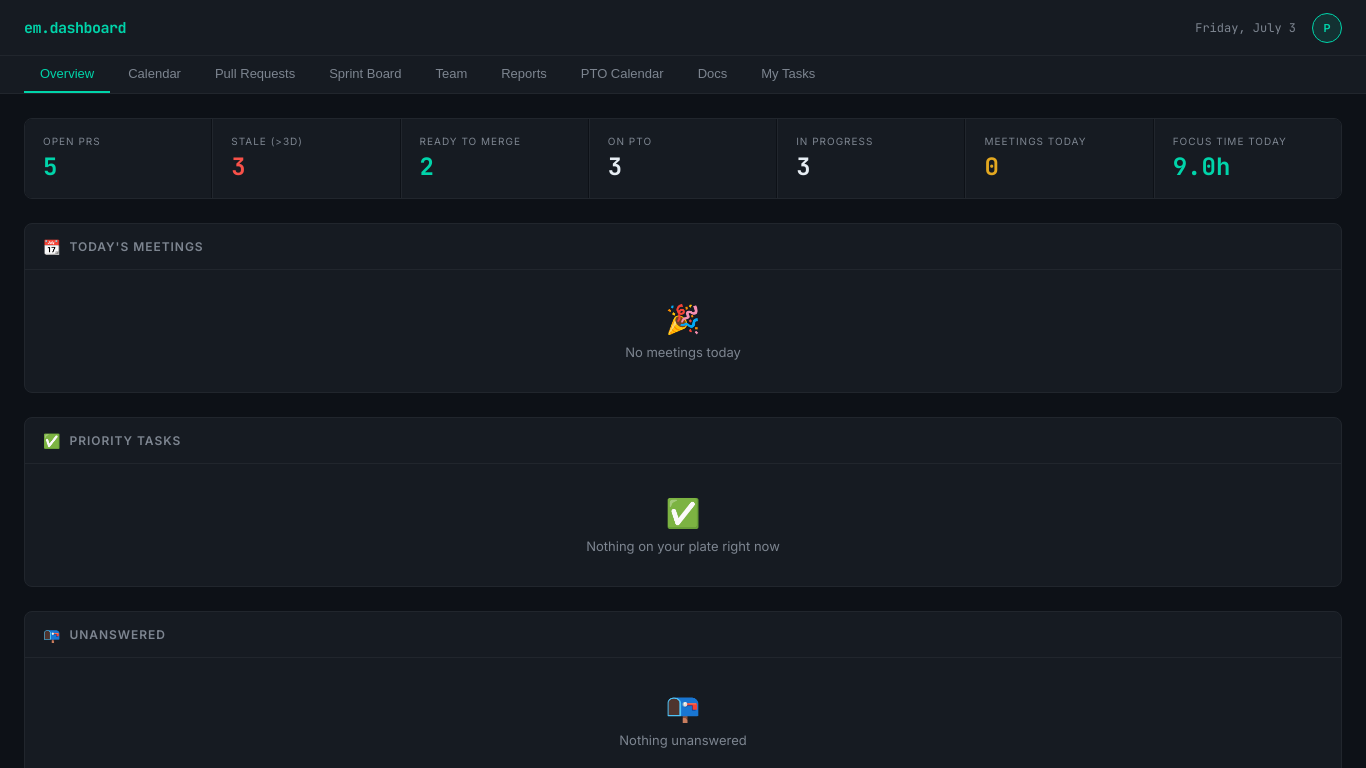
Test: App — tab navigation › has a Team tab so TeamPulse (no longer on Overview) remains reachable
Expected: the text "Today's Meetings" is shown, x1=69 y1=239 x2=204 y2=254
Click the button "Team" at (451, 74), box x1=419 y1=56 x2=483 y2=93
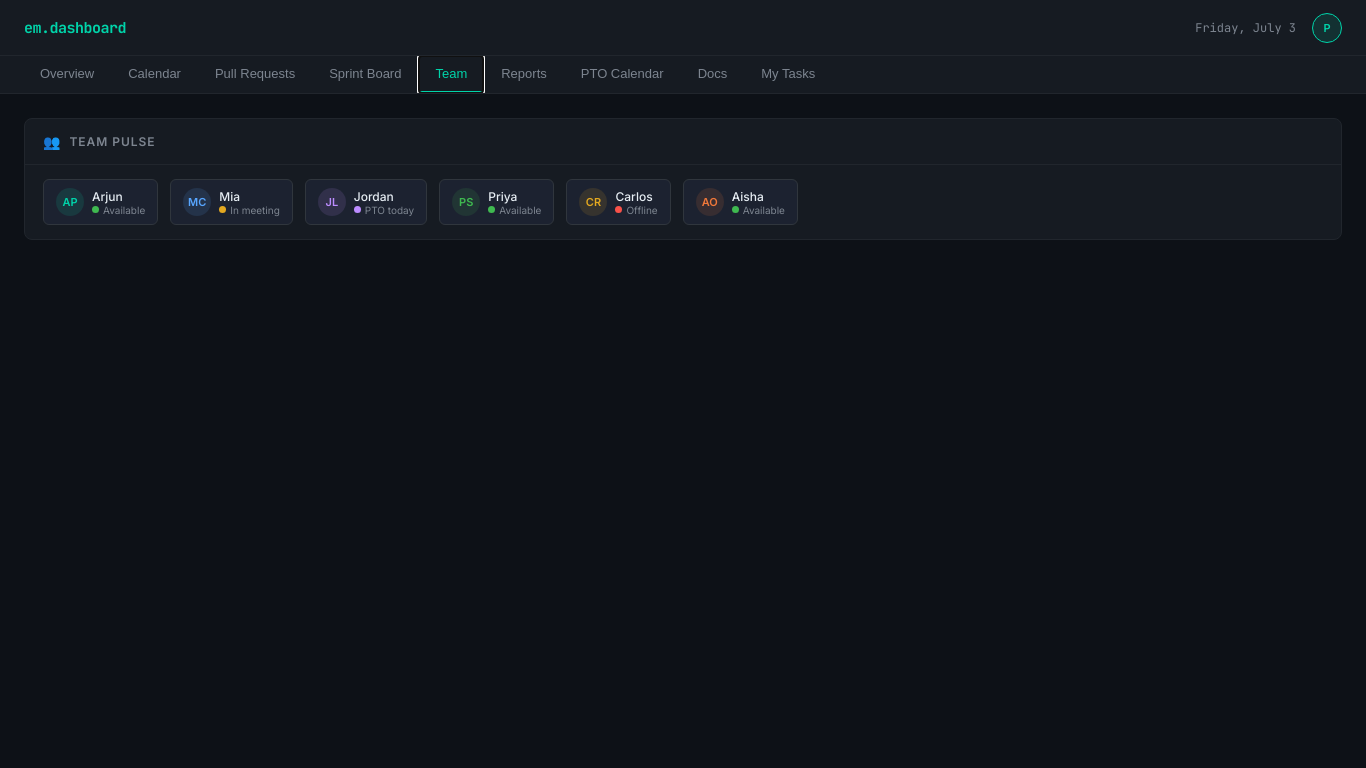
Expected: the text "Team Pulse" is shown, x1=69 y1=134 x2=155 y2=149
